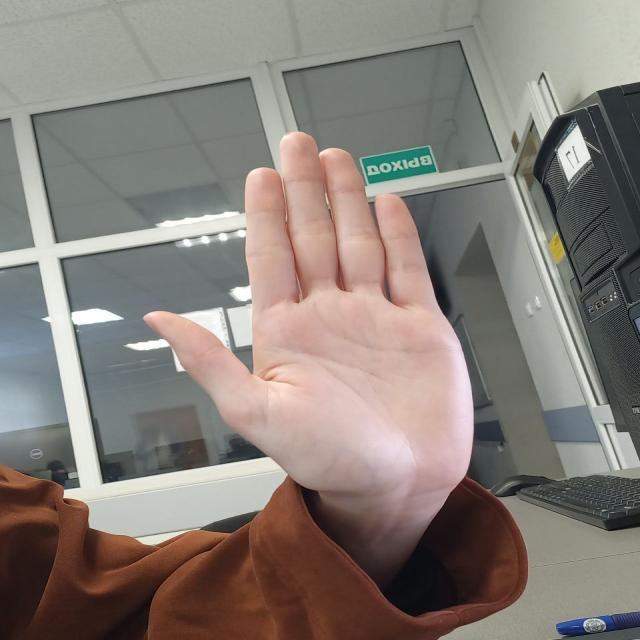v: (156, 122, 500, 488)
